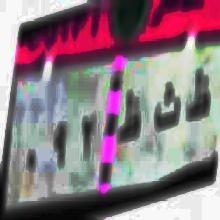0: (24, 142, 38, 181)
2: (78, 110, 98, 162)
9: (51, 115, 68, 177)
Thaa: (186, 62, 211, 132), (116, 90, 143, 147)
thaa: (154, 81, 181, 136)
